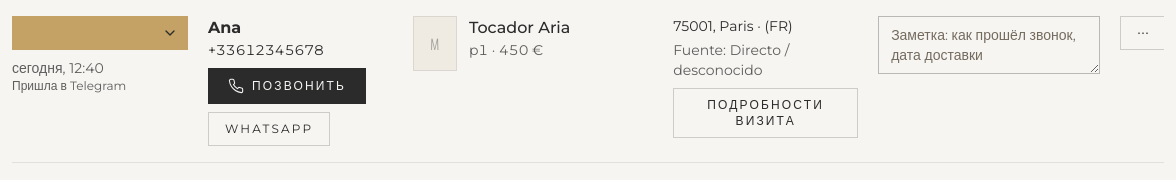
Test: OrderRow — the owner’s note › says so when the note did not save
This screenshot has width=1176, height=180.
Type "x" into the text box named "Заметка к заявке от Ana" at (989, 45), box [878, 16, 1100, 74]
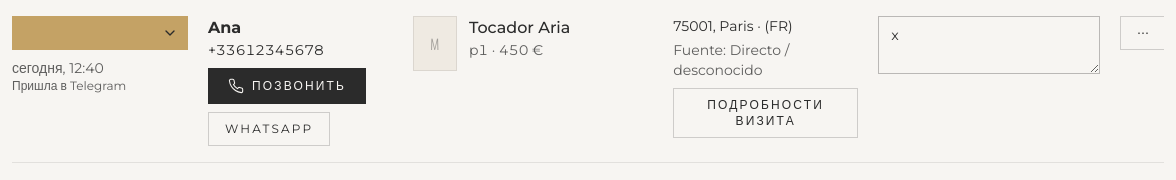
Leave the text box named "Заметка к заявке от Ana", box [878, 16, 1100, 74]
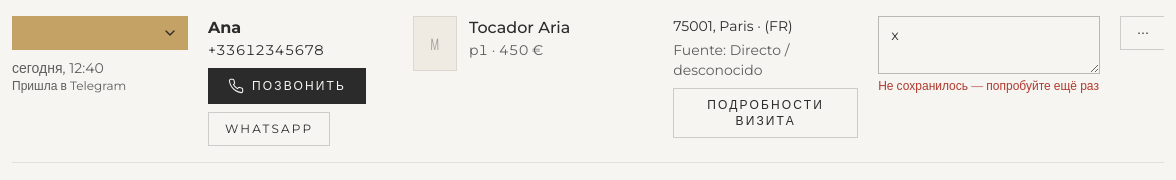
Check: the text "Не сохранилось — попробуйте ещё раз" is shown, box [878, 78, 1099, 93]
